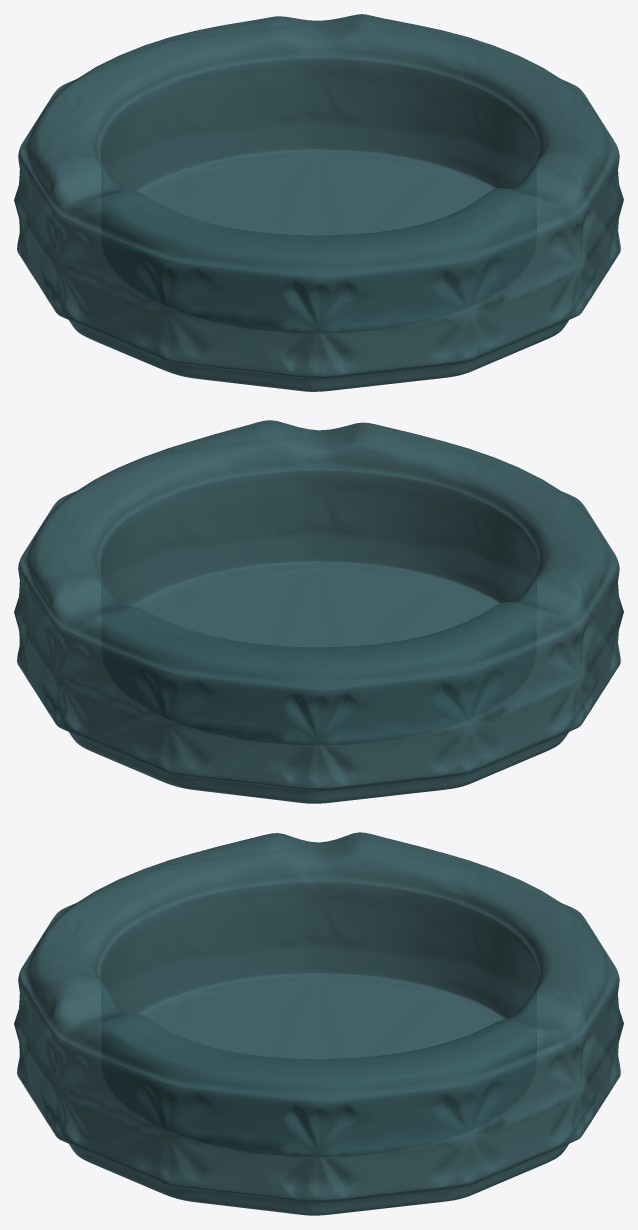
Rendered from Foyer_ashtray_01.glb.
The picture shows the model from 3 angles, top to bottom: view 1: azimuth 30°, elevation 25°; view 2: azimuth 150°, elevation 25°; view 3: azimuth 270°, elevation 25°; orthographic projection.
Visible parts, largest first — view 1: 3DSMeshMatrix; view 2: 3DSMeshMatrix; view 3: 3DSMeshMatrix.
Part boxes in pixels (<box>): 3DSMeshMatrix: <box>14,14,623,391</box>; 3DSMeshMatrix: <box>14,420,623,803</box>; 3DSMeshMatrix: <box>14,832,623,1215</box>.
Bounding box in the file's own units: 24.17 × 6.85 × 24.18.
